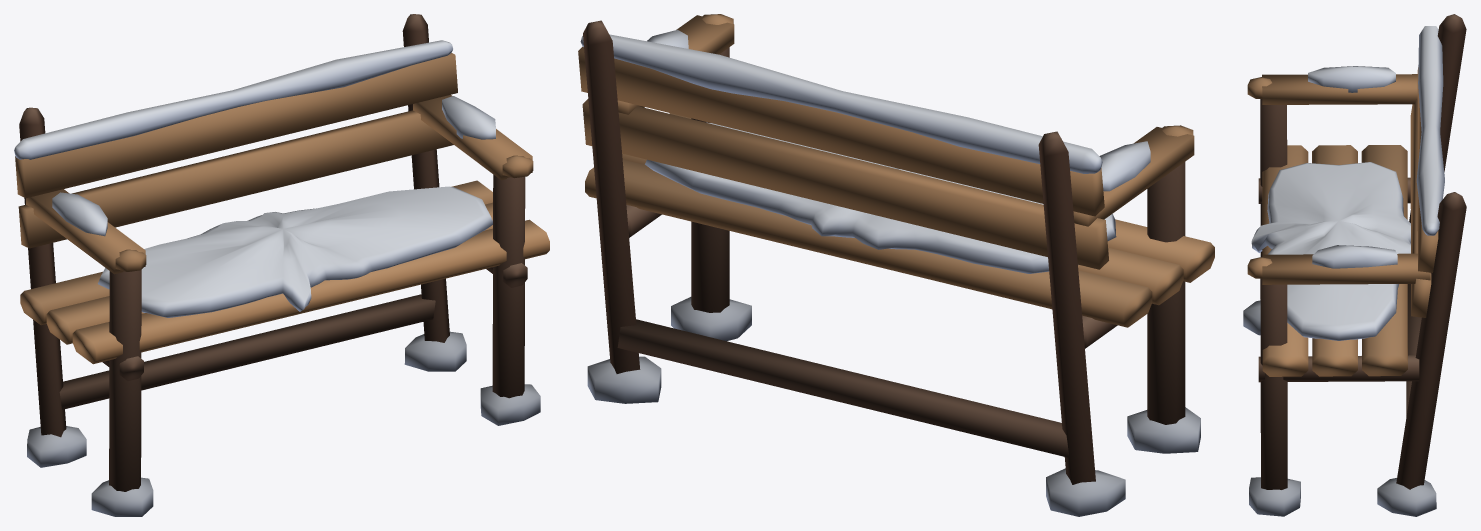
The model's file is rg-onsen-bench.glb.
3 views of the same model, side by side, from view 1: azimuth 30°, elevation 25°; view 2: azimuth 150°, elevation 25°; view 3: azimuth 270°, elevation 25° (orthographic). The views are drawn at different scales.
Parts seen in each view (by area): view 1: body; view 2: body; view 3: body.
Part boxes in pixels (left/top/right/bottom): body: left=14, top=14, right=549, bottom=516; body: left=578, top=14, right=1214, bottom=516; body: left=1243, top=14, right=1466, bottom=516.
Size of the model in its own units: 1.3 by 0.9203 by 0.5845.
